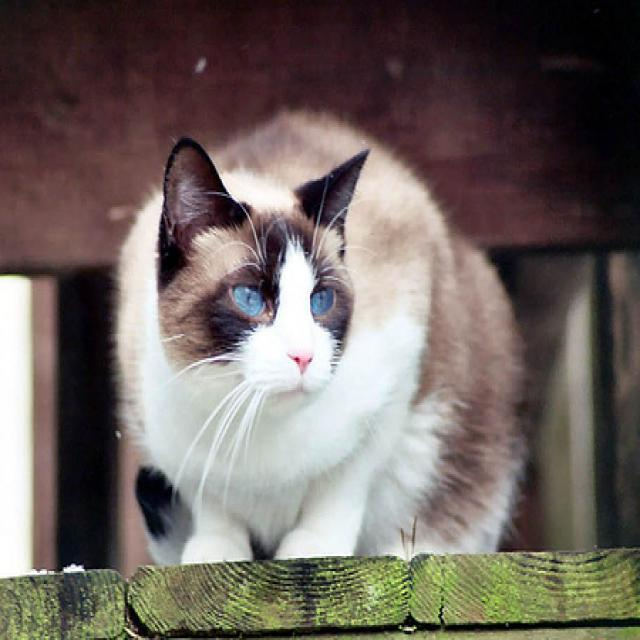Ragdoll: (110, 98, 531, 571)
